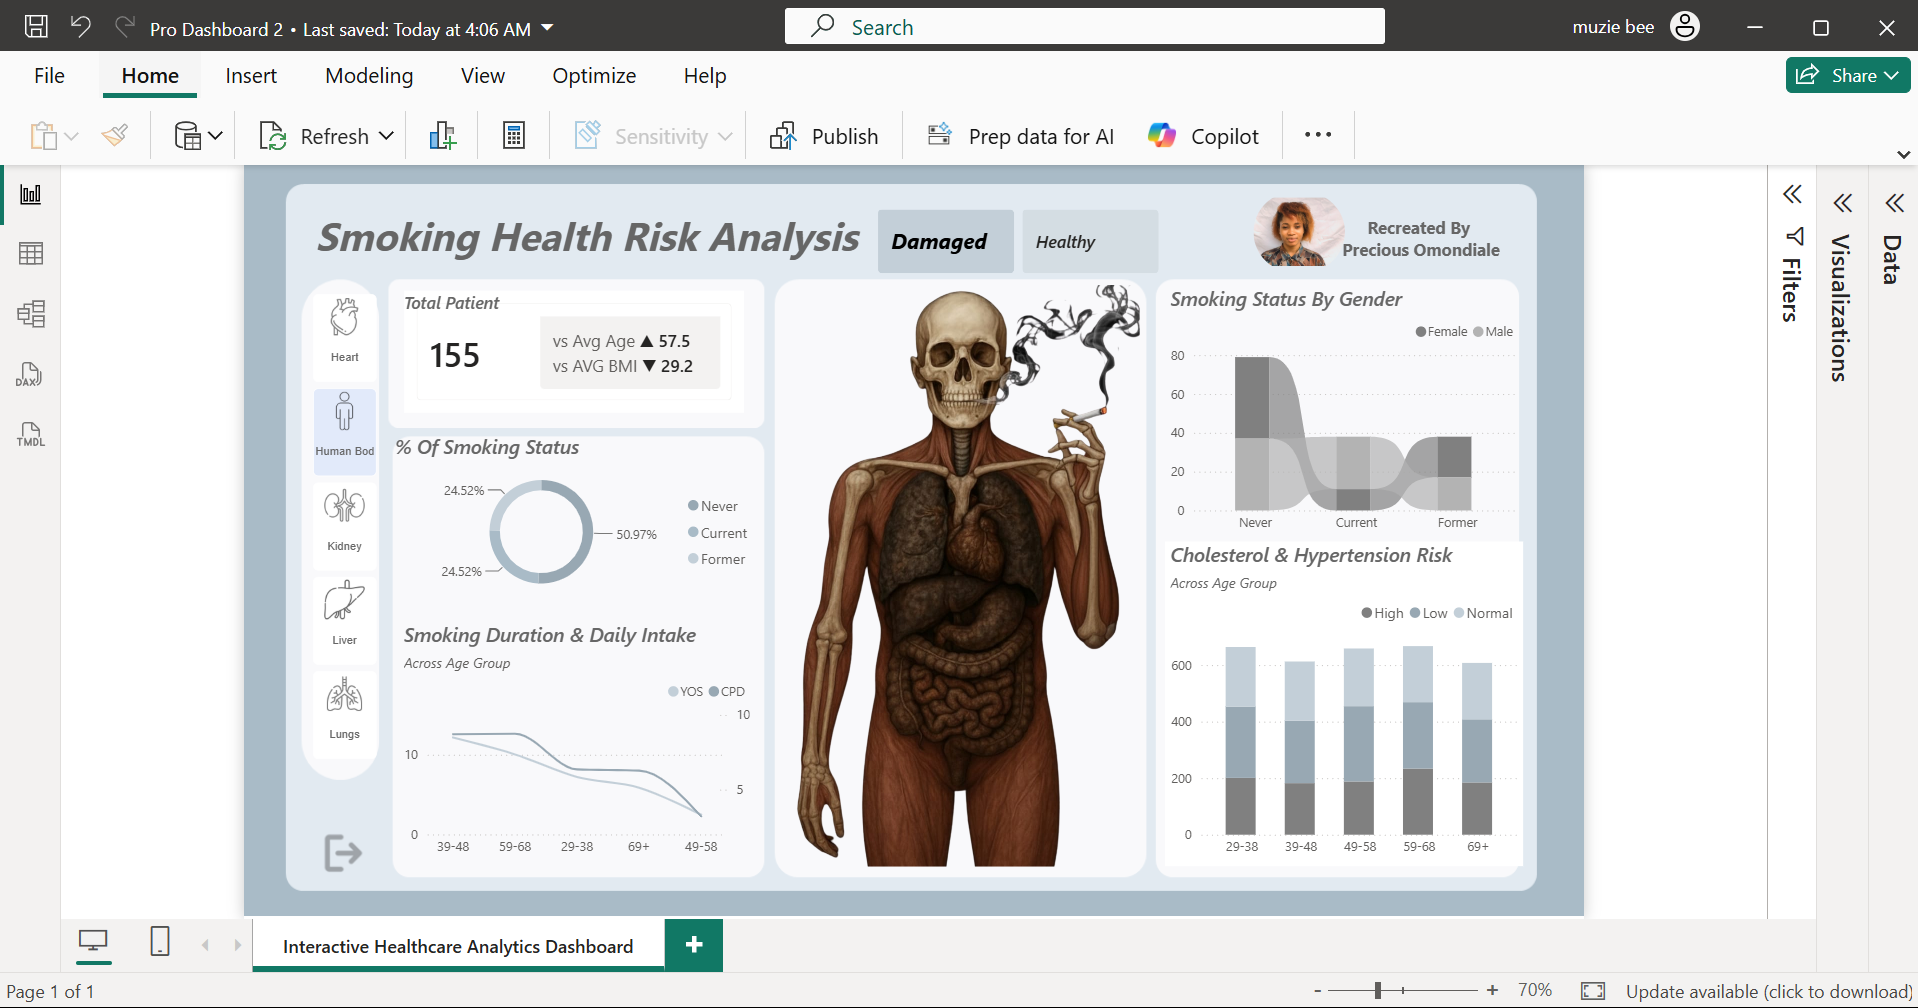

Layout of this report page (visuals, bound fields, positions):
{"tool":"powerbi","page":{"name":"Interactive Healthcare Analytics Dashboard","canvas":[1280,720],"ordinal":0},"visuals":[{"type":"cardVisual","fields":{"Data":["CountNonNull(health_dataset.Patient_ID)"]},"box":[147.9,114.5,335.6,127.2],"z":0},{"type":"textbox","box":[147.9,114.5,130.4,41.4],"z":1000},{"type":"advancedSlicerVisual","fields":{"Values":["condition.Organ_Condition"]},"box":[599.7,36.6,279.9,71.6],"z":2000},{"type":"donutChart","title":"% Of  Smoking Status","fields":{"Category":["health_dataset.Smoking_Status"],"Y":["CountNonNull(health_dataset.Smoking_Status)"]},"box":[138.4,256.1,356.3,162.2],"z":3000},{"type":"ChicletSlicer1448559807354","fields":{"Category":["Organs.Organ"],"Image":["Organs.Icon_URL"]},"box":[57.3,114.5,81.1,467.6],"z":4000},{"type":"image","box":[520.1,114.5,335.6,555.1],"z":5000},{"type":"lineChart","title":"Smoking  Duration & Daily Intake","fields":{"Category":["health_dataset.Age Group"],"Y":["Avg(health_dataset.Years_of_Smoking)"],"Y2":["Avg(health_dataset.Cigarettes_Per_Day)"]},"box":[147.9,435.8,340.4,233.8],"z":6000},{"type":"ribbonChart","title":"Smoking Status By Gender","fields":{"Category":["health_dataset.Smoking_Status"],"Y":["CountNonNull(health_dataset.Patient_ID)"],"Series":["health_dataset.Gender"]},"box":[879.6,114.5,342,245],"z":7000},{"type":"columnChart","title":"Cholesterol & Hypertension Risk","fields":{"Category":["health_dataset.Age Group"],"Y":["Avg(health_dataset.Cholesterol_Level)"],"Series":["health_dataset.BP_Risk"]},"box":[880,360,342,310],"z":8000},{"type":"textbox","box":[63.6,36.6,575.8,77.9],"z":9000},{"type":"textbox","box":[1027.5,42.9,194.1,52.5],"z":10000},{"type":"image","box":[963.9,25.4,87.5,76.3],"z":11000}]}

Visuals, with their boxes on the page's 1280x720 design canvas (x1, y1, x2, y2). These are canvas units, not pixel positions in the 1918x1008 screenshot, which may show the page scaled, cropped or inside an application window:
cardVisual - CountNonNull(health_dataset.Patient_ID): bbox=[148, 114, 484, 242]
textbox: bbox=[148, 114, 278, 156]
advancedSlicerVisual - condition.Organ_Condition: bbox=[600, 37, 880, 108]
"% Of  Smoking Status" donutChart: bbox=[138, 256, 495, 418]
ChicletSlicer1448559807354 - Organs.Organ x Organs.Icon_URL: bbox=[57, 114, 138, 582]
image: bbox=[520, 114, 856, 670]
"Smoking  Duration & Daily Intake" lineChart: bbox=[148, 436, 488, 670]
"Smoking Status By Gender" ribbonChart: bbox=[880, 114, 1222, 360]
"Cholesterol & Hypertension Risk" columnChart: bbox=[880, 360, 1222, 670]
textbox: bbox=[64, 37, 639, 114]
textbox: bbox=[1028, 43, 1222, 95]
image: bbox=[964, 25, 1051, 102]
